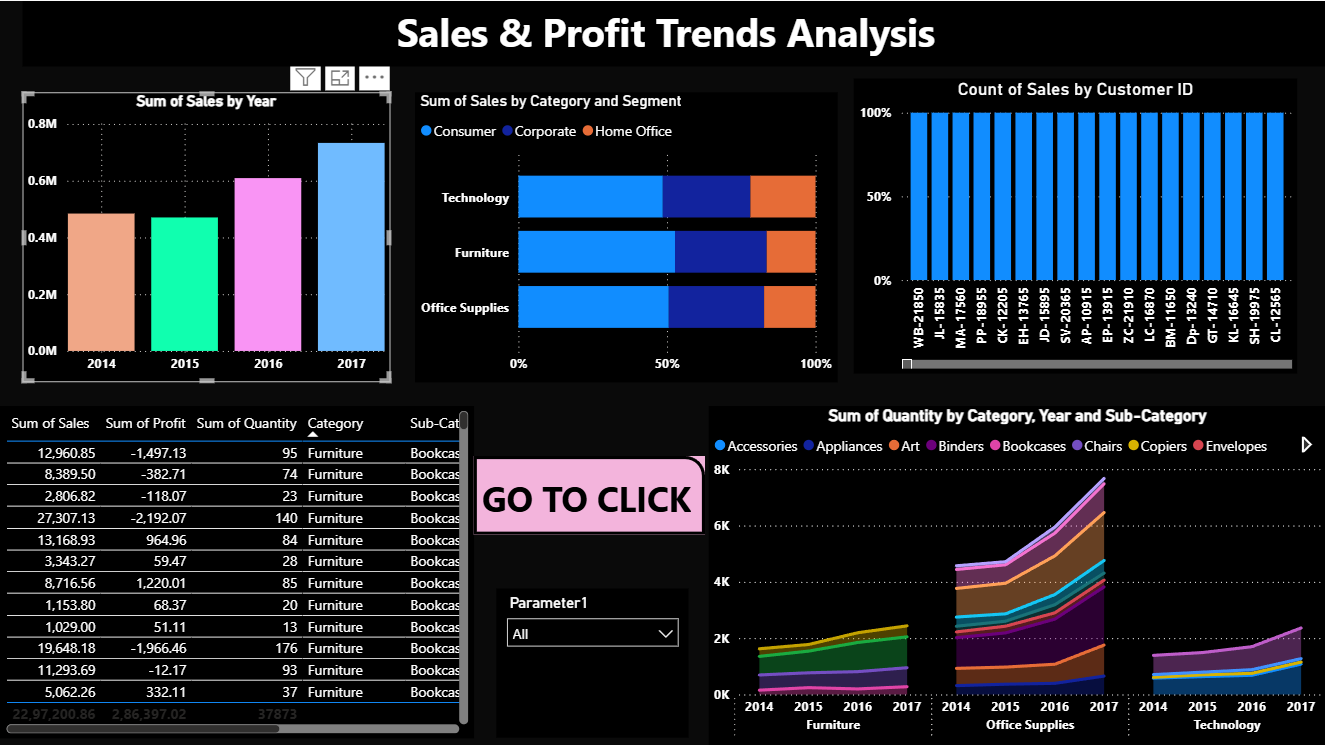

The page's visual inventory and layout, read from the dashboard file:
{"tool":"powerbi","page":{"name":"Page 1","canvas":[1280,720],"ordinal":0},"visuals":[{"type":"columnChart","fields":{"Y":["Sum(Orders.Sales)"],"Category":["Orders.Order Date.Variation.Date Hierarchy.Year"]},"box":[22,88,280,280],"z":0},{"type":"hundredPercentStackedBarChart","fields":{"Category":["Orders.Category"],"Y":["Sum(Orders.Sales)"],"Series":["Orders.Segment"]},"box":[349.7,88,280,280],"z":1000},{"type":"tableEx","fields":{"Values":["Sum(Orders.Sales)","Sum(Orders.Profit)","Sum(Orders.Quantity)","Orders.Category","Orders.Sub-Category","Orders.Region","Orders.Segment","Sum(Orders.Discount)"]},"box":[0,402.3,457.3,309.4],"z":2000},{"type":"slicer","fields":{"Values":["Parameter1.Parameter1"]},"box":[479.4,567.4,185.9,144.3],"z":3000},{"type":"hundredPercentStackedColumnChart","fields":{"Y":["CountNonNull(Orders.Sales)"],"Category":["Orders.Customer ID"]},"box":[654.2,83.2,289.8,284.9],"z":4000},{"type":"actionButton","box":[461,443.9,222.6,75.8],"z":5000},{"type":"columnChart","fields":{"Y":["Sum(Orders.Sales)"],"Category":["Orders.Order Date.Variation.Date Hierarchy.Year","Orders.Order Date.Variation.Date Hierarchy.Quarter","Orders.Order Date.Variation.Date Hierarchy.Month","Orders.Order Date.Variation.Date Hierarchy.Day"]},"box":[985.6,80.7,280,287.4],"z":6000},{"type":"stackedAreaChart","fields":{"Category":["Orders.Category","Orders.Order Date.Variation.Date Hierarchy.Year"],"Series":["Orders.Sub-Category"],"Y":["Sum(Orders.Quantity)"]},"box":[683.6,402.3,596.7,317.9],"z":7000},{"type":"textbox","box":[22,0,1258.3,108.8],"z":7001}]}

Visuals, with their boxes in screenshot pixels (x1, y1, x2, y2), scaled from the page's 1280x720 canvas onto the 1325x745 screenshot:
columnChart - Sum(Orders.Sales) x Orders.Order Date.Variation.Date Hierarchy.Year: 23 91 313 381
hundredPercentStackedBarChart - Orders.Category x Sum(Orders.Sales): 362 91 652 381
tableEx - Sum(Orders.Sales) x Sum(Orders.Profit): 0 416 473 736
slicer - Parameter1.Parameter1: 496 587 689 736
hundredPercentStackedColumnChart - CountNonNull(Orders.Sales) x Orders.Customer ID: 677 86 977 381
actionButton: 477 459 708 538
columnChart - Sum(Orders.Sales) x Orders.Order Date.Variation.Date Hierarchy.Year: 1020 84 1310 381
stackedAreaChart - Orders.Category x Orders.Order Date.Variation.Date Hierarchy.Year: 708 416 1324 744
textbox: 23 0 1324 113
